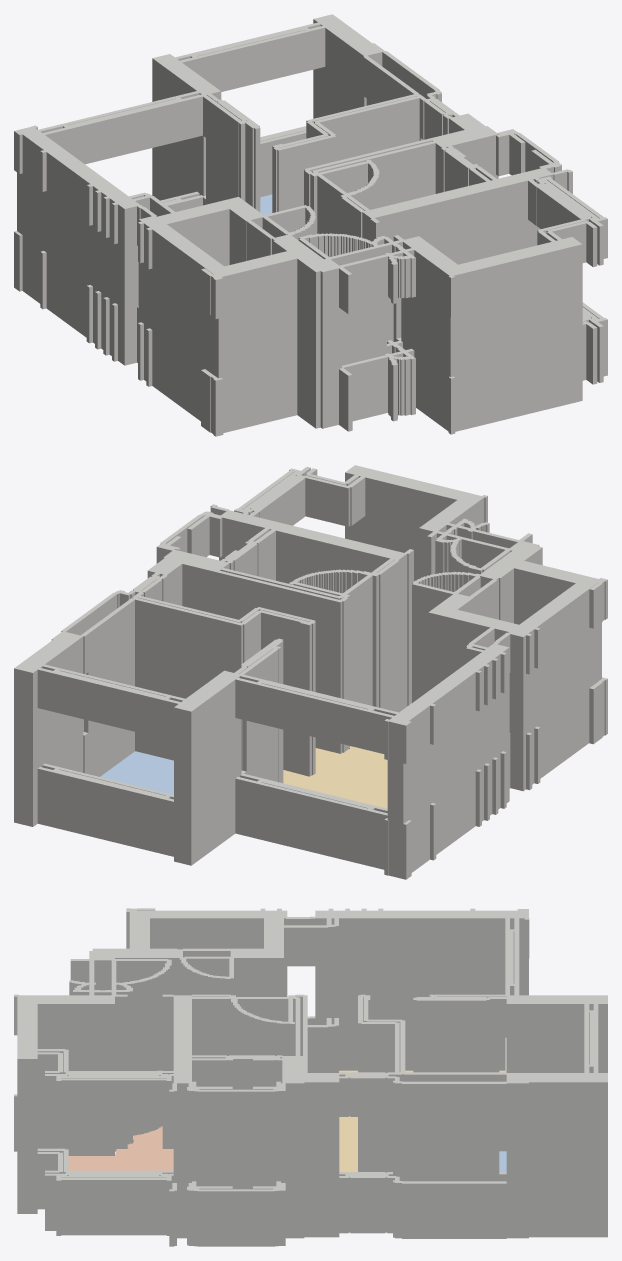
3 views of the same model, one above another, from view 1: azimuth 30°, elevation 25°; view 2: azimuth 150°, elevation 25°; view 3: azimuth 270°, elevation 25° (orthographic).
Parts seen in each view (by area): view 1: walls; view 2: walls, room:living:1, room:bedroom:0; view 3: walls, room:kitchen:5, room:living:1.
Boxes of the visible parts, bbox=[...] form: walls: bbox=[14, 14, 607, 436]; walls: bbox=[14, 465, 607, 879]; room:living:1: bbox=[283, 746, 387, 808]; room:bedroom:0: bbox=[100, 751, 173, 794]; walls: bbox=[14, 908, 607, 1246]; room:kitchen:5: bbox=[68, 1126, 173, 1170]; room:living:1: bbox=[339, 1070, 505, 1172].
Bounding box in the file's own units: 7.1 × 2.8 × 9.72.
